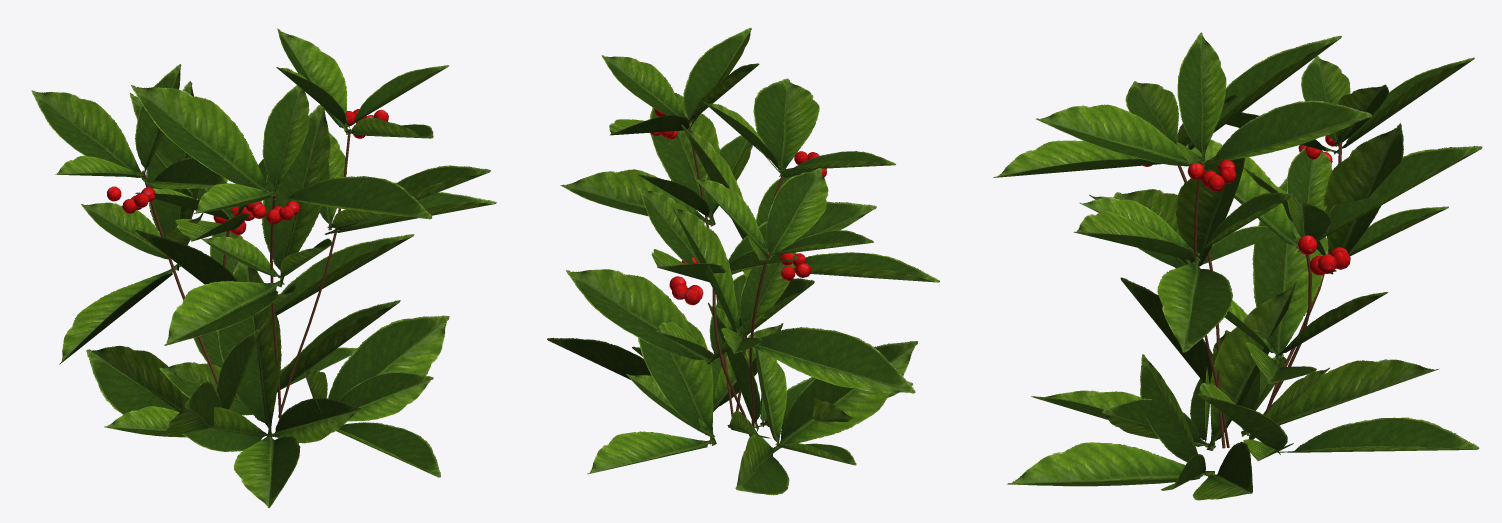
Rendered from yabukouji_nocolor.fbx.
3 views of the same model, side by side, from view 1: azimuth 30°, elevation 25°; view 2: azimuth 150°, elevation 25°; view 3: azimuth 270°, elevation 25° (orthographic). The views are drawn at different scales.
Visible parts, largest first — view 1: 234.011, 234.043, 234.014, 234.039, 234.047, 234.015, 234.027, 234.010, 234.008, 234.046, 234.040, 234.023 (+32 smaller); view 2: 234.031, 234.023, 234.038, 234.034, 234.010, 234.026, 234.007, 234.006, 234.035, 234.030, 234.015, 234.003 (+30 smaller); view 3: 234.042, 234.002, 234.003, 234.022, 234.030, 234.007, 234.035, 234.047, 234.039, 234, 234.018, 234.014 (+28 smaller).
Part boxes in pixels (left/top/right/bottom): 234.011: left=131, top=85, right=277, bottom=200; 234.043: left=328, top=315, right=449, bottom=400; 234.014: left=261, top=104, right=330, bottom=287; 234.039: left=86, top=345, right=189, bottom=414; 234.047: left=217, top=262, right=281, bottom=437; 234.015: left=164, top=280, right=284, bottom=345; 234.027: left=31, top=90, right=149, bottom=183; 234.010: left=271, top=176, right=431, bottom=219; 234.008: left=262, top=85, right=309, bottom=194; 234.046: left=233, top=432, right=300, bottom=507; 234.040: left=338, top=371, right=433, bottom=421; 234.023: left=274, top=234, right=414, bottom=315; 234.031: left=753, top=327, right=915, bottom=393; 234.023: left=566, top=269, right=714, bottom=366; 234.038: left=773, top=341, right=917, bottom=452; 234.034: left=638, top=309, right=716, bottom=445; 234.010: left=753, top=78, right=819, bottom=176; 234.026: left=766, top=168, right=828, bottom=259; 234.007: left=560, top=169, right=711, bottom=225; 234.006: left=649, top=93, right=719, bottom=226; 234.035: left=587, top=431, right=713, bottom=474; 234.030: left=670, top=204, right=743, bottom=337; 234.015: left=793, top=252, right=939, bottom=282; 234.003: left=683, top=28, right=751, bottom=129; 234.042: left=1007, top=442, right=1215, bottom=486; 234.002: left=1202, top=100, right=1372, bottom=165; 234.003: left=1036, top=104, right=1204, bottom=167; 234.022: left=1252, top=177, right=1328, bottom=366; 234.030: left=1324, top=123, right=1403, bottom=274; 234.007: left=1157, top=259, right=1232, bottom=352; 234.035: left=1277, top=417, right=1479, bottom=452; 234.047: left=1206, top=282, right=1296, bottom=450; 234.039: left=1241, top=359, right=1438, bottom=436; 234: left=1177, top=32, right=1226, bottom=160; 234.018: left=1297, top=145, right=1482, bottom=251; 234.014: left=1175, top=138, right=1245, bottom=266.
Size of the model in its own units: 27.15 by 25.09 by 25.78.
Materials: 3 (2 with a texture image).
